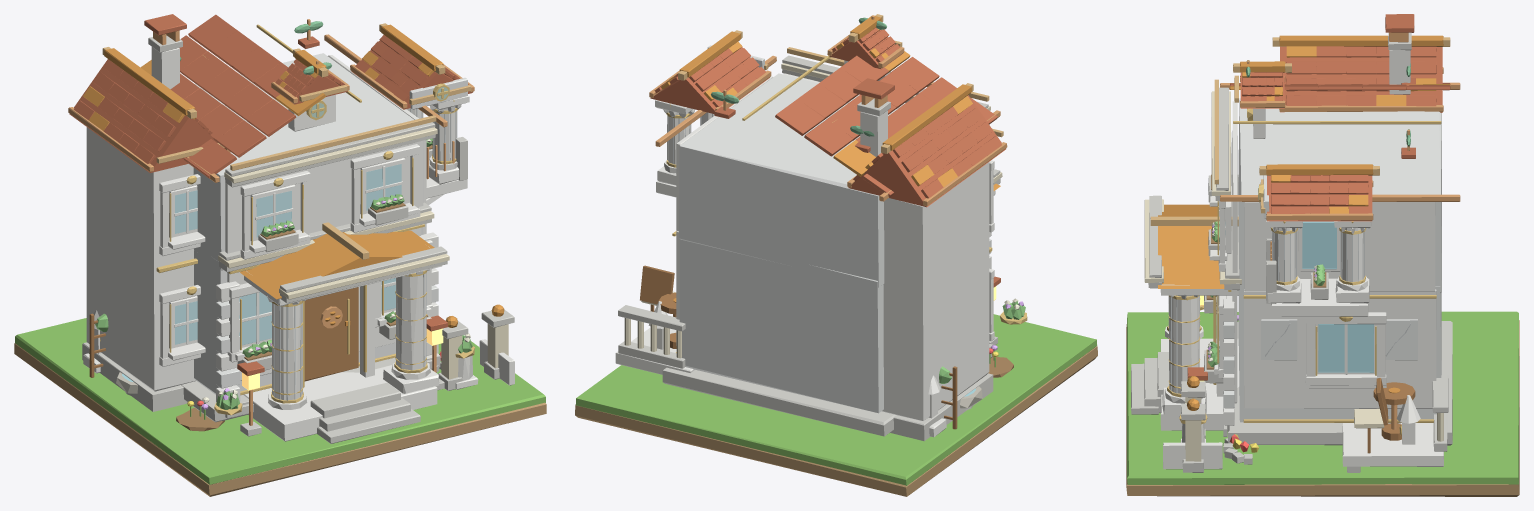
Rendered from villa_l05_active_LOD1.glb.
3 views of the same model, side by side, from view 1: azimuth 30°, elevation 25°; view 2: azimuth 150°, elevation 25°; view 3: azimuth 270°, elevation 25° (orthographic). The views are drawn at different scales.
Parts seen in each view (by area): view 1: villa_l05_active_left_pavilion_shell_villa_l05_active_LOD1_t, villa_grass_tile_villa_l05_active_LOD1_tmp, villa_l05_active_full_upper_shell_villa_l05_active_LOD1_tmp, villa_earth_tile_villa_l05_active_LOD1_tmp, villa_l05_active_wide_portico_roof_gable_roof_villa_l05_acti, villa_l05_active_upper_front_cladding_villa_l05_active_LOD1_, villa_l05_active_wide_porch_villa_l05_active_LOD1_tmp, villa_l01_active_v2_entry_door_villa_l05_active_LOD1_tmp, villa_l01_active_v2_marble_core_villa_l05_active_LOD1_tmp, villa_l05_active_left_pavilion_roof_gable_roof_villa_l05_act, villa_l05_active_wide_column_1_shaft_villa_l05_active_LOD1_t, villa_l05_active_wide_column_-1_shaft_villa_l05_active_LOD1_ (+52 smaller); view 2: villa_l05_active_full_upper_shell_villa_l05_active_LOD1_tmp, villa_l01_active_v2_marble_core_villa_l05_active_LOD1_tmp, villa_grass_tile_villa_l05_active_LOD1_tmp, villa_l05_active_left_pavilion_shell_villa_l05_active_LOD1_t, villa_earth_tile_villa_l05_active_LOD1_tmp, villa_l01_active_v2_base_stone_block_low_medium_foundation_v, villa_l05_active_left_pavilion_roof_gable_roof_villa_l05_act, villa_l05_active_balcony_gable_gable_roof_villa_l05_active_L, villa_l05_active_left_pavilion_foundation_villa_l05_active_L, villa_l05_active_left_pavilion_roof_gold_ridge_villa_l05_act, villa_l05_active_chair_back_villa_l05_active_LOD1_tmp, villa_l05_active_full_upper_tile_-1_1_4_villa_l05_active_LOD (+17 smaller); view 3: villa_grass_tile_villa_l05_active_LOD1_tmp, villa_l05_active_full_upper_shell_villa_l05_active_LOD1_tmp, villa_l01_active_v2_right_marble_cladding_villa_l05_active_L, villa_l05_active_upper_right_cladding_villa_l05_active_LOD1_, villa_earth_tile_villa_l05_active_LOD1_tmp, villa_l05_active_wide_portico_roof_gable_roof_villa_l05_acti, villa_l01_active_v2_base_stone_block_low_medium_foundation_v, villa_l05_active_terrace_deck_villa_l05_active_LOD1_tmp, villa_l01_active_v2_marble_core_villa_l05_active_LOD1_tmp, villa_l01_active_v2_side_window_glass_villa_l05_active_LOD1_, villa_l05_active_left_pavilion_roof_gable_roof_villa_l05_act, villa_l05_active_wide_column_1_shaft_villa_l05_active_LOD1_t (+44 smaller).
Boxes of the visible parts, x1,y1,x2,y2 form: villa_l05_active_left_pavilion_shell_villa_l05_active_LOD1_t: (86, 127, 195, 391); villa_grass_tile_villa_l05_active_LOD1_tmp: (15, 318, 545, 484); villa_l05_active_full_upper_shell_villa_l05_active_LOD1_tmp: (193, 53, 423, 270); villa_earth_tile_villa_l05_active_LOD1_tmp: (14, 343, 546, 496); villa_l05_active_wide_portico_roof_gable_roof_villa_l05_acti: (240, 230, 434, 299); villa_l05_active_upper_front_cladding_villa_l05_active_LOD1_: (225, 140, 423, 253); villa_l05_active_wide_porch_villa_l05_active_LOD1_tmp: (243, 365, 437, 441); villa_l01_active_v2_entry_door_villa_l05_active_LOD1_tmp: (304, 287, 358, 381); villa_l01_active_v2_marble_core_villa_l05_active_LOD1_tmp: (194, 227, 423, 394); villa_l05_active_left_pavilion_roof_gable_roof_villa_l05_act: (69, 59, 224, 172); villa_l05_active_wide_column_1_shaft_villa_l05_active_LOD1_t: (396, 273, 425, 370); villa_l05_active_wide_column_-1_shaft_villa_l05_active_LOD1_: (272, 303, 302, 400); villa_l05_active_full_upper_shell_villa_l05_active_LOD1_tmp: (679, 73, 903, 287); villa_l01_active_v2_marble_core_villa_l05_active_LOD1_tmp: (679, 239, 883, 413); villa_grass_tile_villa_l05_active_LOD1_tmp: (575, 314, 1097, 485); villa_l05_active_left_pavilion_shell_villa_l05_active_LOD1_t: (882, 162, 989, 420); villa_earth_tile_villa_l05_active_LOD1_tmp: (575, 346, 1097, 496); villa_l01_active_v2_base_stone_block_low_medium_foundation_v: (662, 343, 993, 436); villa_l05_active_left_pavilion_roof_gable_roof_villa_l05_act: (848, 95, 1005, 207); villa_l05_active_balcony_gable_gable_roof_villa_l05_active_L: (650, 47, 769, 113); villa_l05_active_left_pavilion_foundation_villa_l05_active_L: (890, 373, 993, 441); villa_l05_active_left_pavilion_roof_gold_ridge_villa_l05_act: (882, 84, 971, 150); villa_l05_active_chair_back_villa_l05_active_LOD1_tmp: (640, 265, 674, 304); villa_l05_active_full_upper_tile_-1_1_4_villa_l05_active_LOD: (804, 119, 853, 156); villa_grass_tile_villa_l05_active_LOD1_tmp: (1127, 311, 1518, 484); villa_l05_active_full_upper_shell_villa_l05_active_LOD1_tmp: (1238, 98, 1441, 293); villa_l01_active_v2_right_marble_cladding_villa_l05_active_L: (1244, 289, 1436, 408); villa_l05_active_upper_right_cladding_villa_l05_active_LOD1_: (1244, 202, 1435, 291); villa_earth_tile_villa_l05_active_LOD1_tmp: (1126, 320, 1519, 496); villa_l05_active_wide_portico_roof_gable_roof_villa_l05_acti: (1158, 204, 1224, 288); villa_l01_active_v2_base_stone_block_low_medium_foundation_v: (1227, 321, 1452, 445); villa_l05_active_terrace_deck_villa_l05_active_LOD1_tmp: (1342, 423, 1443, 466); villa_l01_active_v2_marble_core_villa_l05_active_LOD1_tmp: (1238, 286, 1441, 423); villa_l01_active_v2_side_window_glass_villa_l05_active_LOD1_: (1318, 324, 1373, 372); villa_l05_active_left_pavilion_roof_gable_roof_villa_l05_act: (1280, 46, 1442, 112); villa_l05_active_wide_column_1_shaft_villa_l05_active_LOD1_t: (1168, 295, 1199, 393).
Size of what is drawn, in the model's own units: 3.57 by 3.58 by 3.58.
